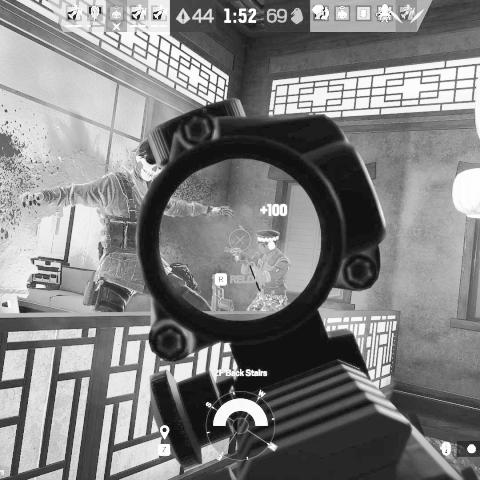Character: (19, 136, 237, 312), (236, 225, 294, 314)
Head: (131, 138, 164, 182), (256, 228, 280, 255)
